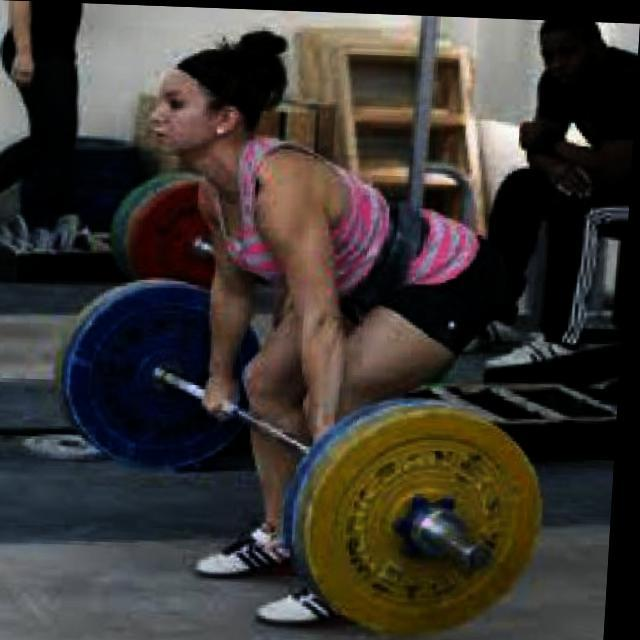barbell: (307, 402, 560, 640)
